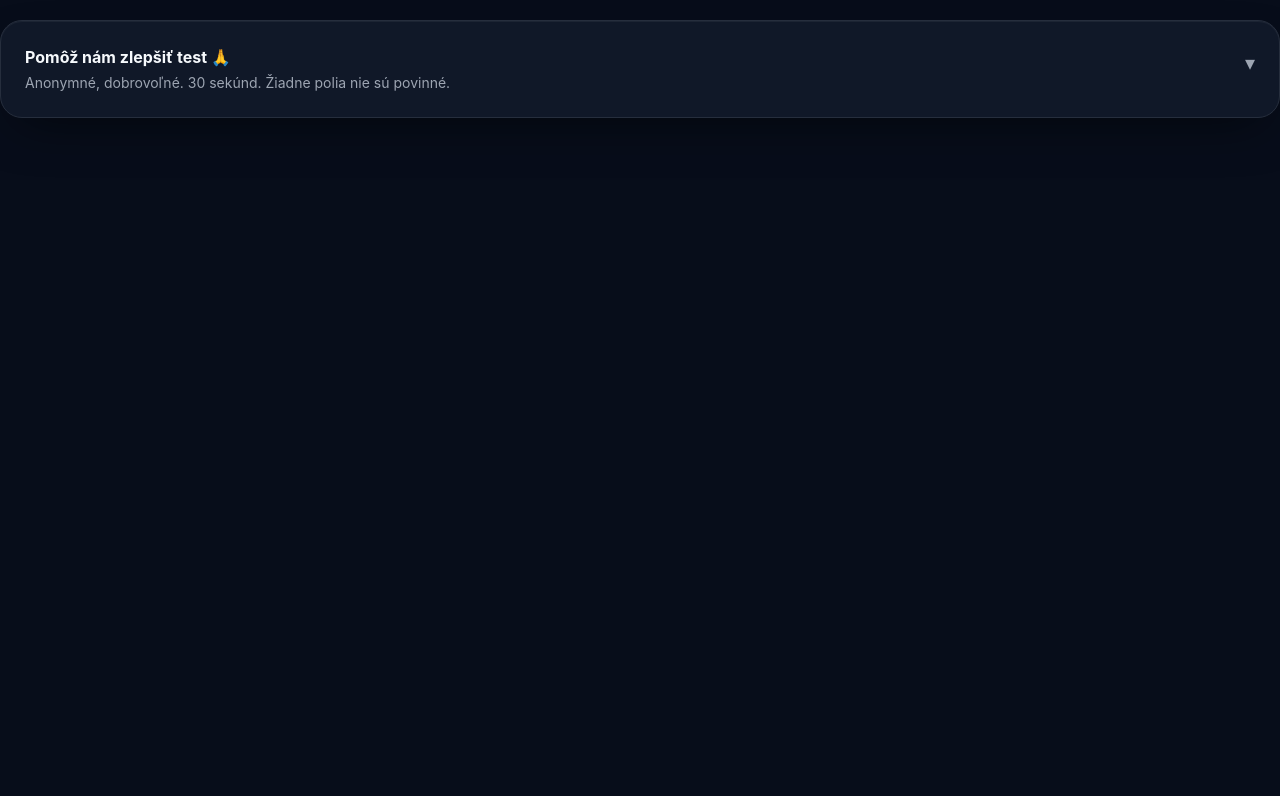
Test: SurveyCard — E2.3 growth questions › after success with wantsCourses=true, thank-you state shows /skolenia CTA
The image size is (1280, 796).
Click the button "Pomôž nám zlepšiť test": x=128, y=57 [17,37,1263,101]
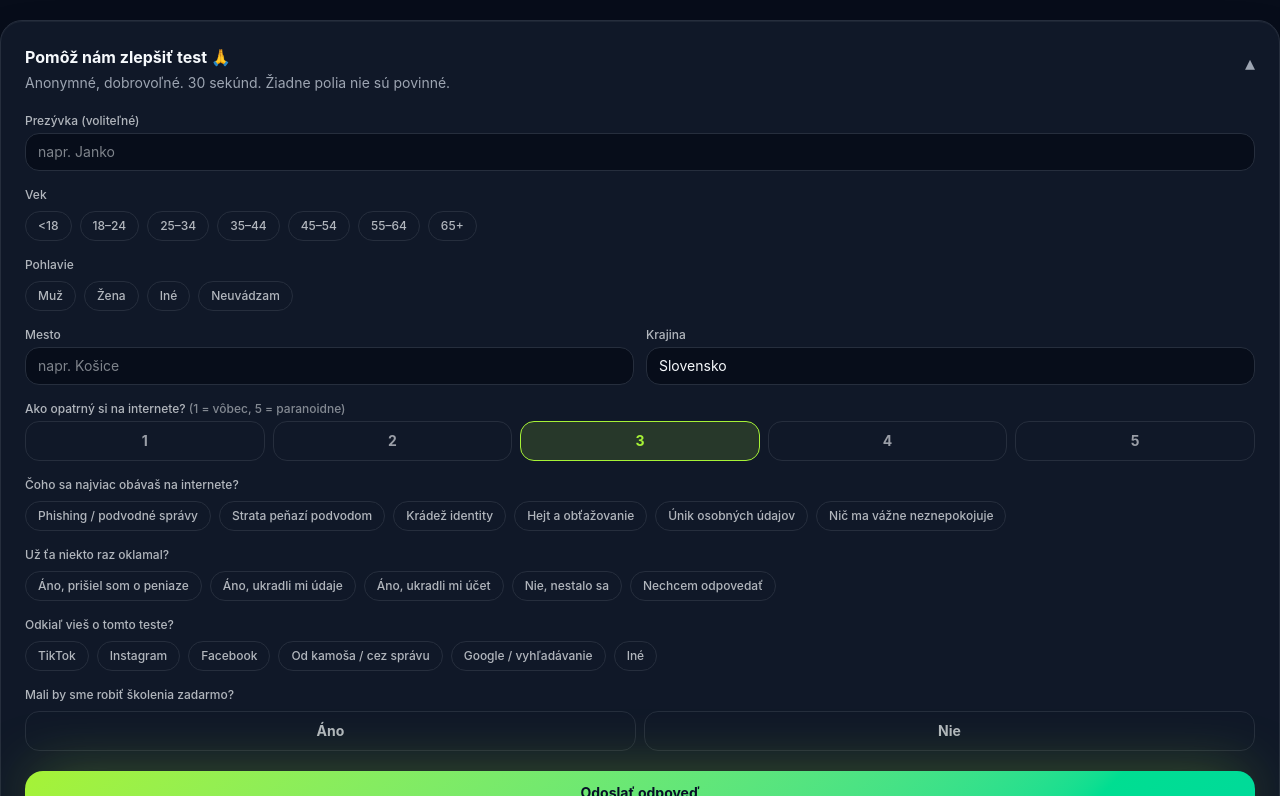
Click the radio button labelled "Áno": x=330, y=731 [25,711,636,751]
(page scrolled)
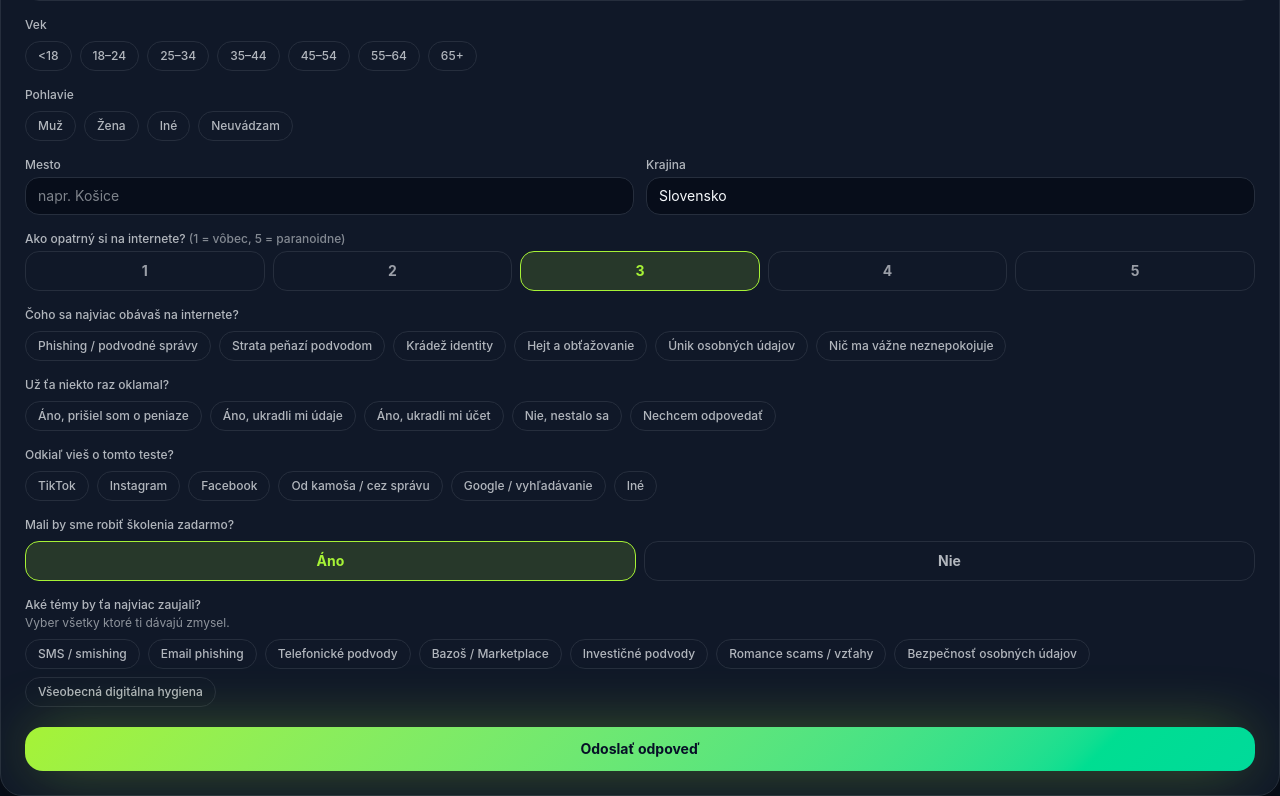
Click the button "Odoslať odpoveď": x=640, y=749 [25,727,1255,771]
(page scrolled)
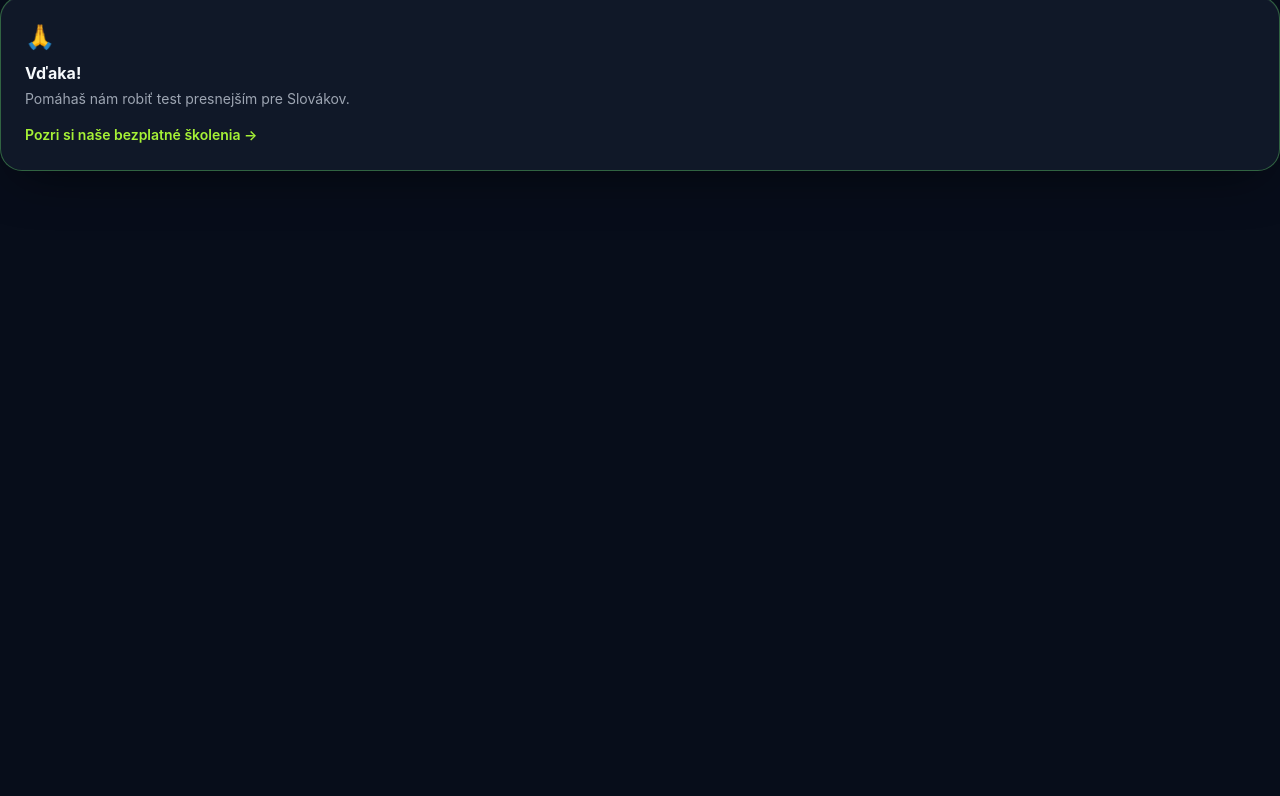
Check: the heading "Vďaka!" is shown, box [25,63,81,83]
Check: the link "Pozri si naše bezplatné školenia →" is shown, box [25,125,257,145]
